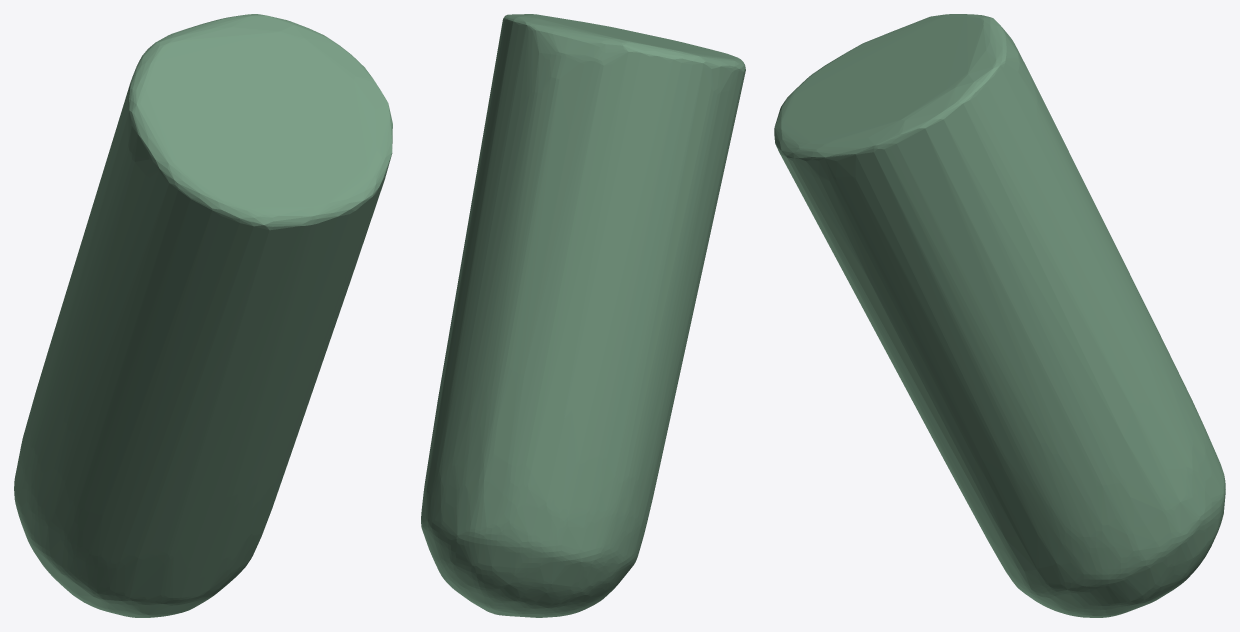
Rendered from 0_decomposed.obj.
The picture shows the model from 3 angles, left to right: view 1: azimuth 30°, elevation 25°; view 2: azimuth 150°, elevation 25°; view 3: azimuth 270°, elevation 25°; orthographic projection. The views are drawn at different scales.
Parts seen in each view (by area): view 1: geometry_0; view 2: geometry_0; view 3: geometry_0.
Boxes of the visible parts, bbox=[...] form: geometry_0: bbox=[14, 14, 392, 617]; geometry_0: bbox=[421, 14, 745, 617]; geometry_0: bbox=[774, 14, 1225, 617].
Bounding box in the file's own units: 0.0582 × 0.1437 × 0.1033.
